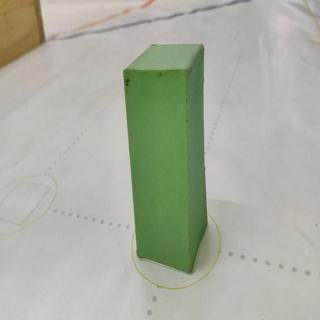greenbox: (121, 40, 209, 279)
